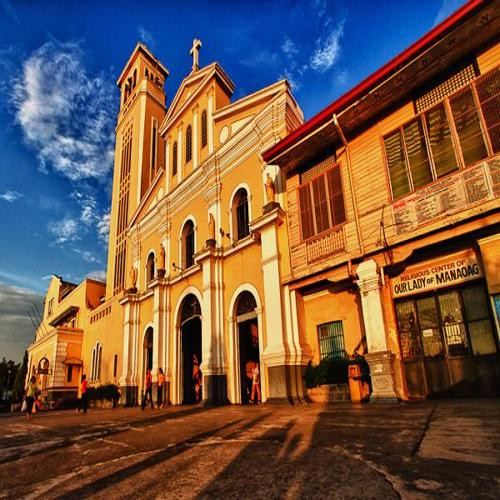Manaoag Church: (88, 50, 311, 409)
